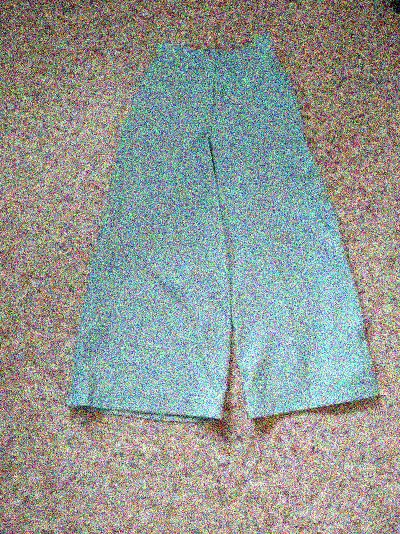Pants: (63, 19, 397, 425)
